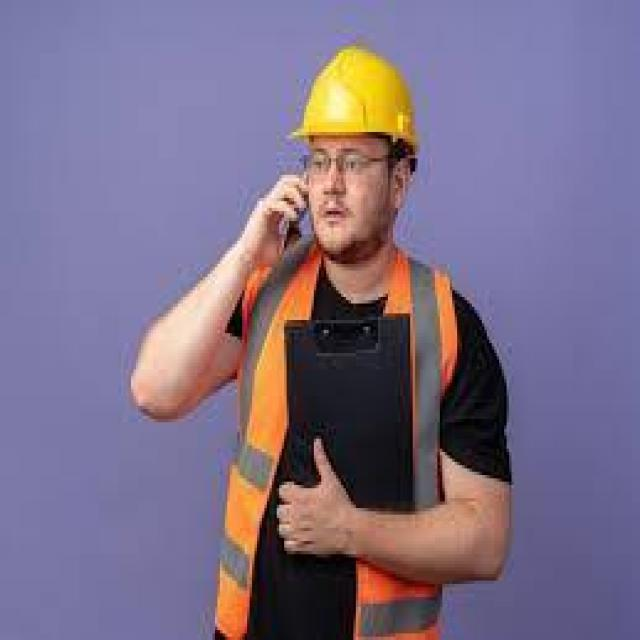hat: (287, 50, 431, 149)
